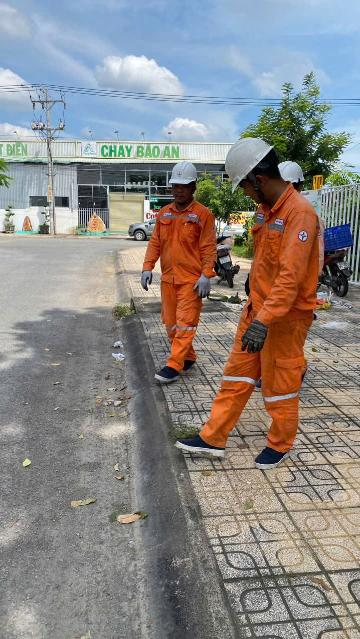gloves: (241, 316, 270, 358), (190, 272, 218, 302), (133, 269, 157, 292)
helmet: (218, 136, 277, 197), (274, 154, 321, 187), (166, 160, 205, 186)
shoes: (170, 426, 227, 458), (254, 440, 301, 470), (154, 361, 188, 387), (179, 355, 199, 376)
